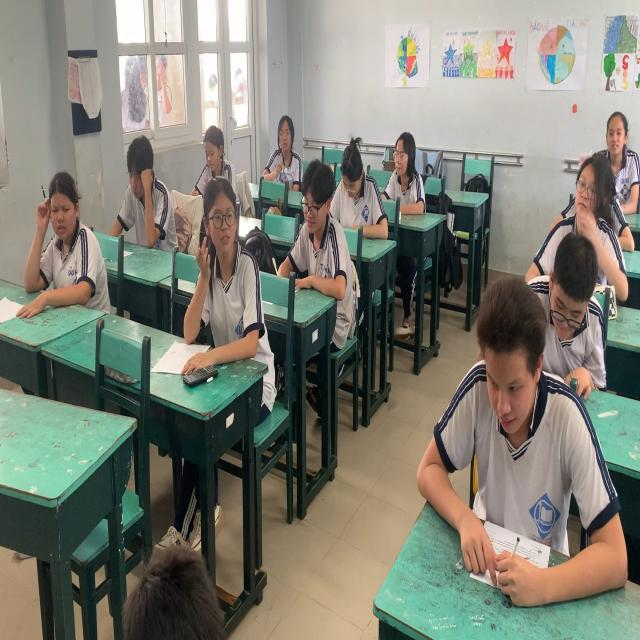cheating: (187, 168, 268, 360)
not_cheating: (429, 277, 568, 583), (544, 231, 609, 392), (29, 172, 103, 300), (296, 149, 344, 297), (336, 128, 391, 248), (120, 136, 168, 251), (599, 106, 640, 224), (381, 125, 429, 221), (572, 152, 618, 241), (262, 104, 307, 185), (192, 116, 229, 179)
